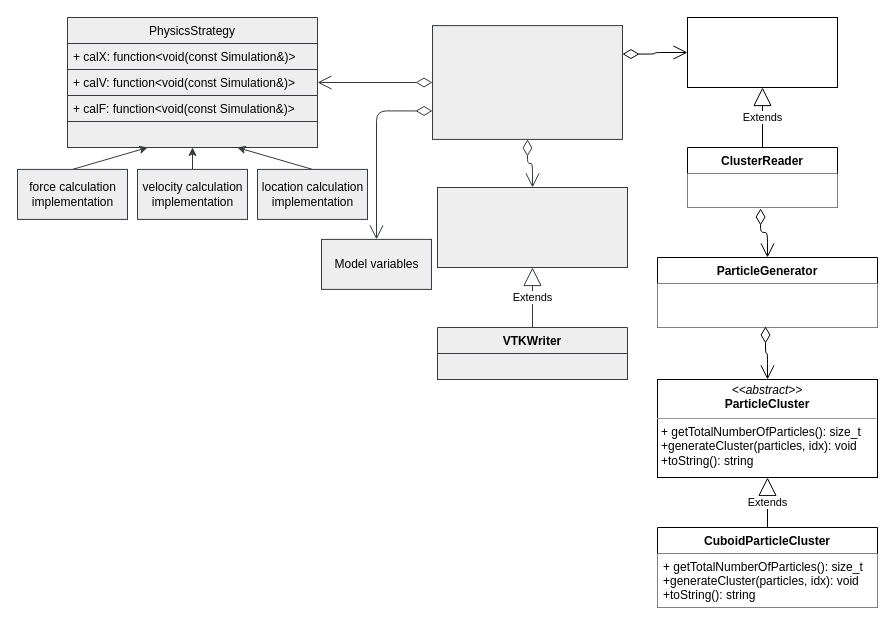
This 895x628 diagram has some shape labels left out. The shapes that lost their labels are listed below. From the top down, each one's centre as x and y in pixels, then its label:
At pixel 762 52: "<<abstract>> FileReader + readFile(filename): void".
At pixel 527 82: "<<abstract>> Simulation # strategy: PhysicsStrategy + ... + runSim(): void".
At pixel 192 134: "+ PhysicsStrategy(calX, calV, calF)".
At pixel 762 190: "+ readFile(filename): void".
At pixel 532 227: "<<abstract>> FileWriter + plotParticles(Simulation): void".
At pixel 767 305: "+ registerParticleCluster(cluster*): void +generateCluster(): void".
At pixel 532 366: "+ plotParticles(Simulation): void".
